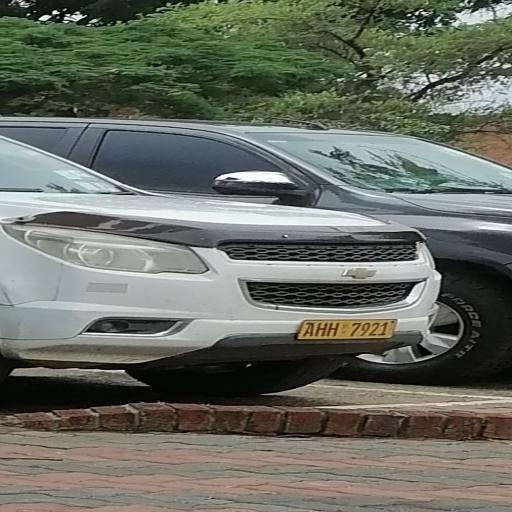number-plates: (291, 317, 398, 339)
